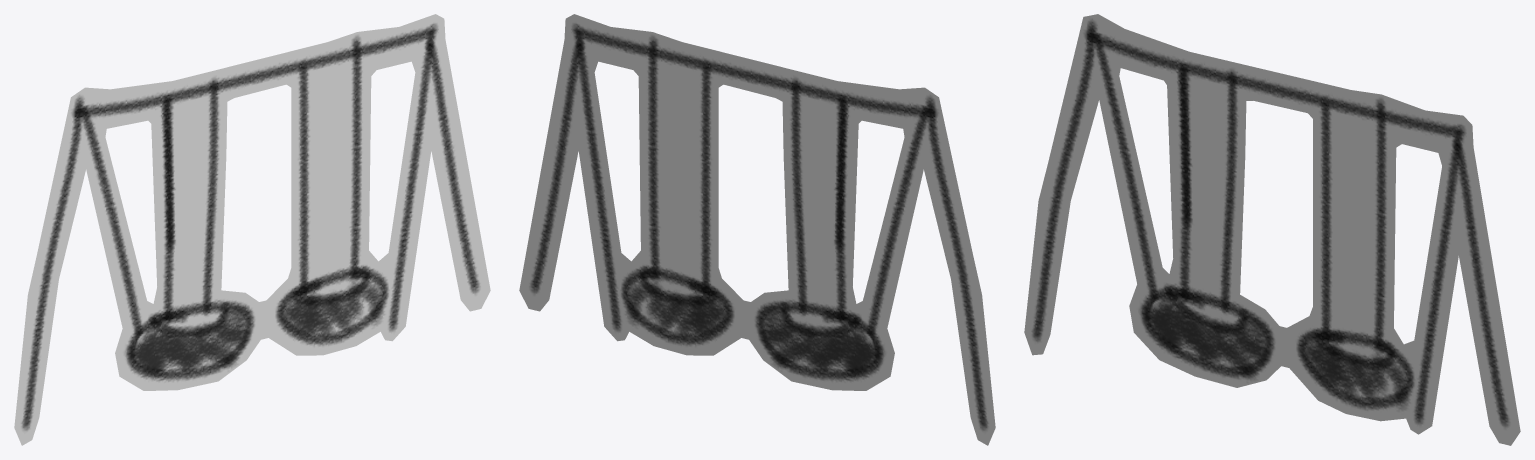
Rendered from Gunga.fbx.
3 views of the same model, side by side, from view 1: azimuth 30°, elevation 25°; view 2: azimuth 150°, elevation 25°; view 3: azimuth 330°, elevation 25° (orthographic). The views are drawn at different scales.
Parts seen in each view (by area): view 1: gunga; view 2: gunga; view 3: gunga.
Part boxes in pixels (x1,y1,x2,y2): gunga: (14, 14, 490, 445); gunga: (519, 14, 995, 445); gunga: (1024, 14, 1520, 445).
Size of the model in its own units: 170 by 117 by 1.9e-05.
1 material, 1 textured.
